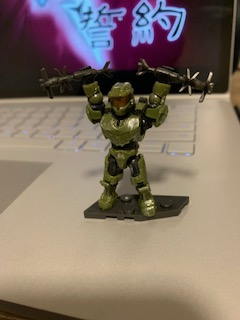chief: (77, 63, 174, 221)
spartan: (75, 61, 172, 219)
up: (77, 64, 173, 151)
